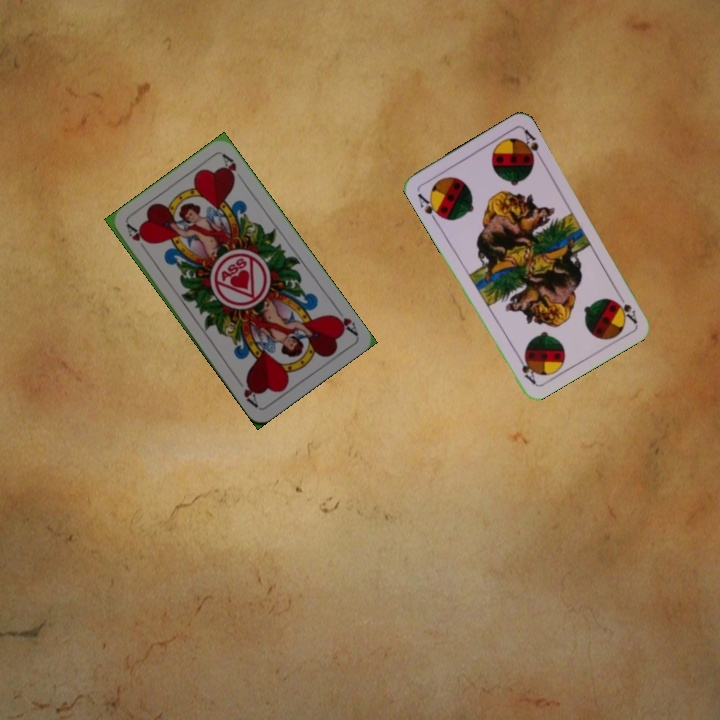HA: (328, 302, 360, 338), (123, 220, 151, 256)
SA: (413, 189, 445, 224), (612, 288, 640, 326)
